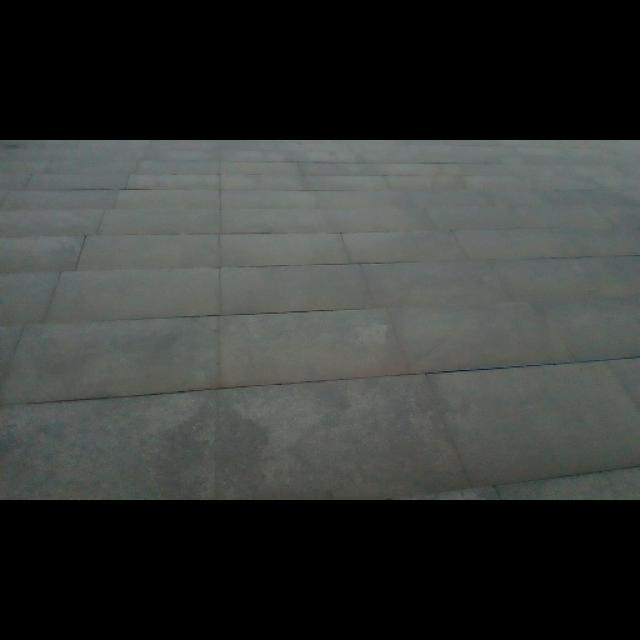stair: (6, 162, 640, 486)
